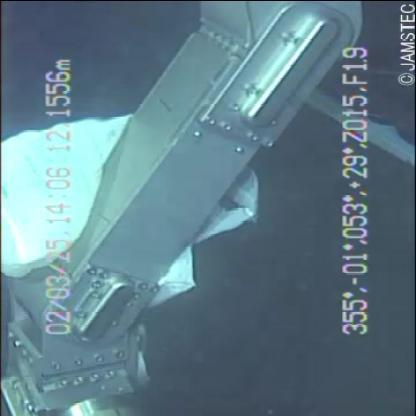Rov: (1, 3, 369, 415)
Rác: (1, 111, 259, 293)
